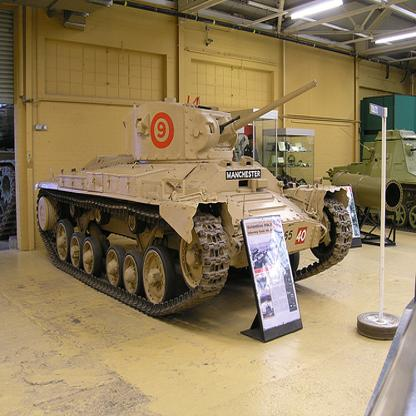Tank: (33, 81, 360, 332)
